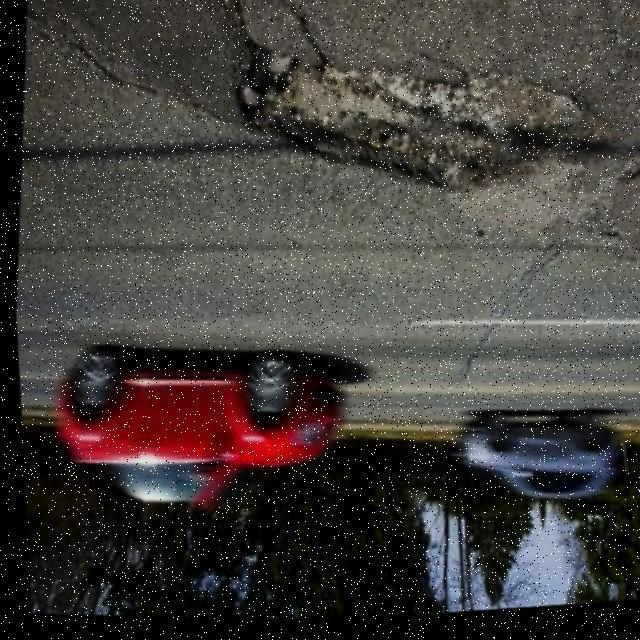pothole: (225, 28, 605, 226)
